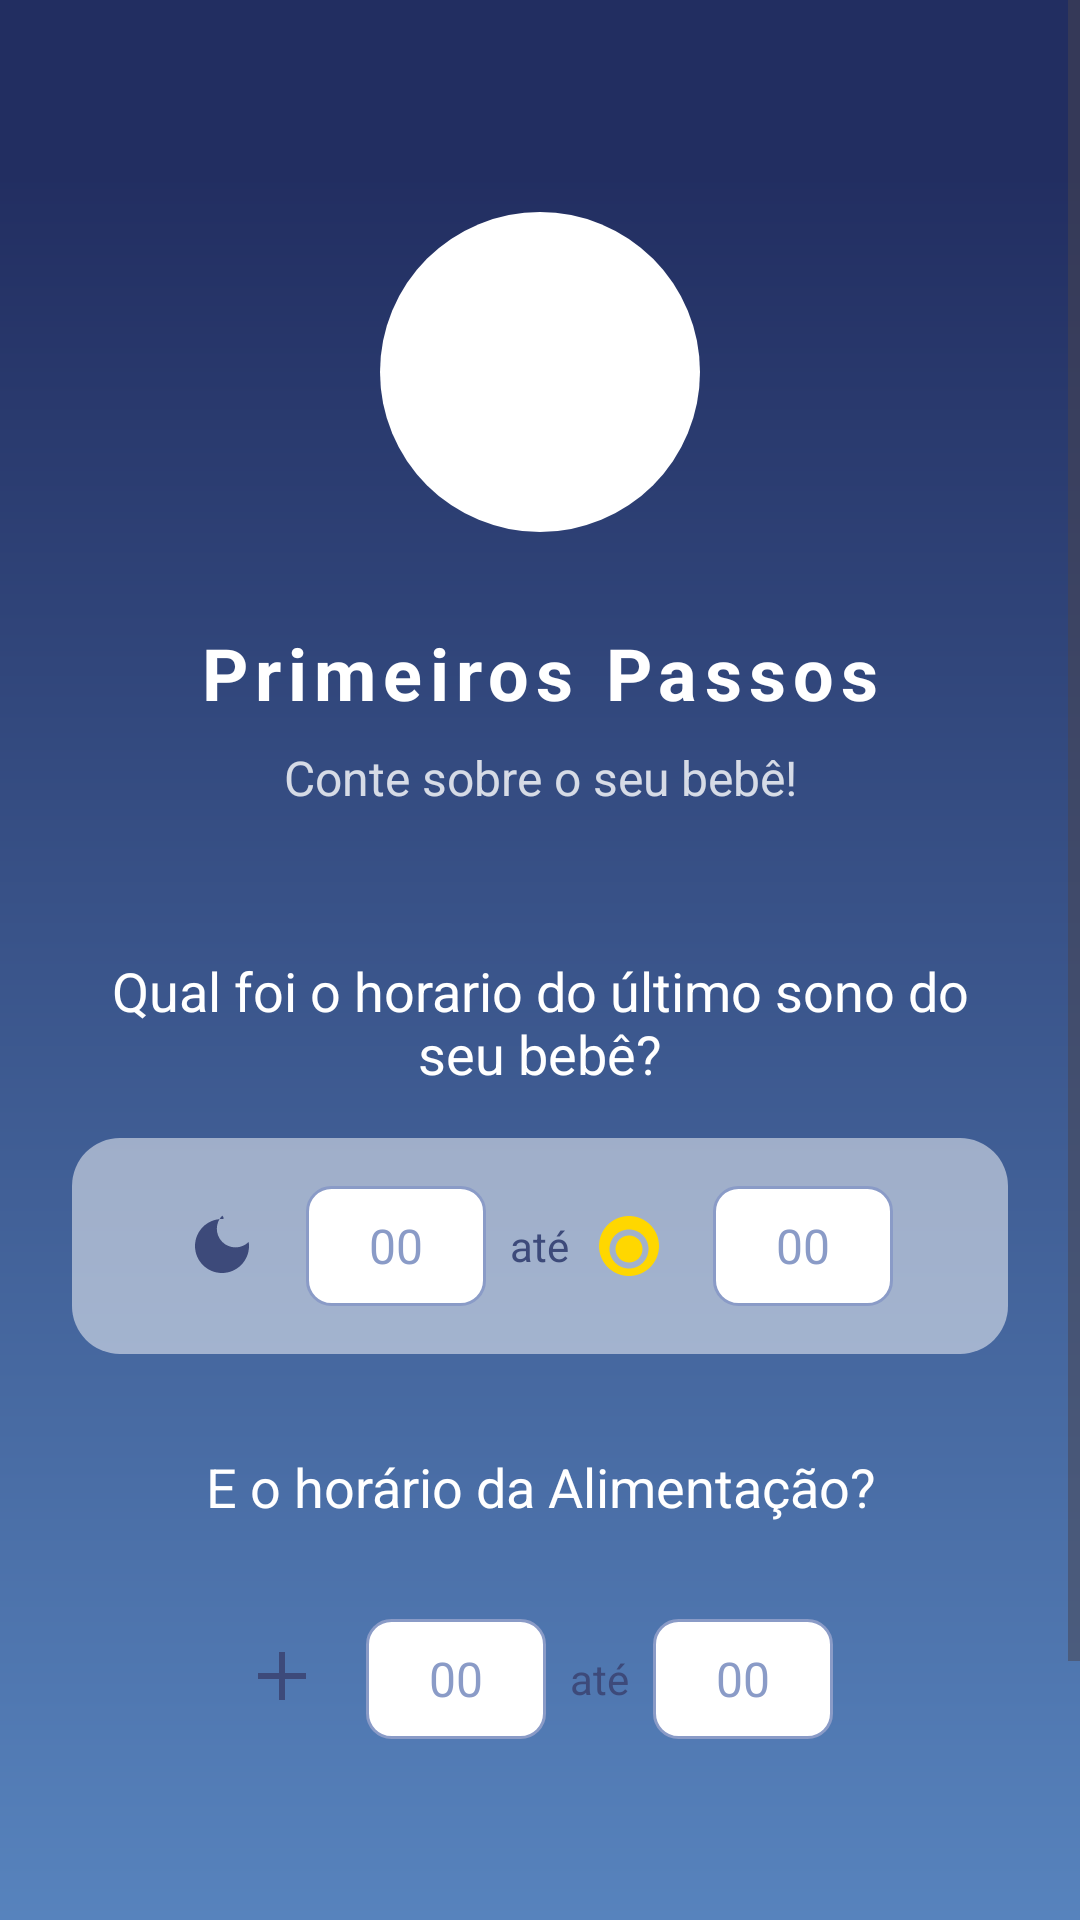

Icon bounding boxes for this 1080px×1920px phone screenshot, format (x1, y1, x2, y2):
moon: (195, 1216, 249, 1273)
sun: (599, 1216, 659, 1276)
